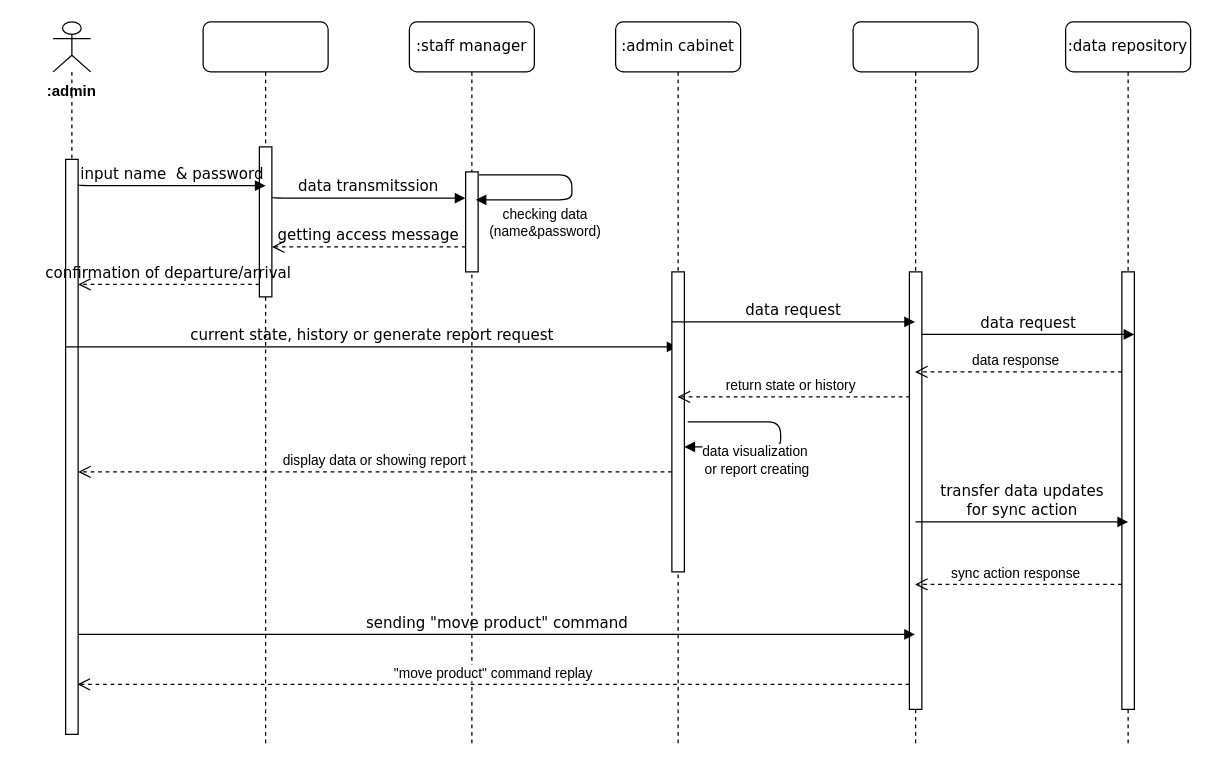
The diagram is 1213 pixels wide and 769 high, and some of its shapes have lost their labels. The box of each missing label's shape, as (x1, y1, x2, y2) in pixels:
:authorization terminal: (202, 21, 328, 747)
:storage manager: (852, 21, 978, 747)
